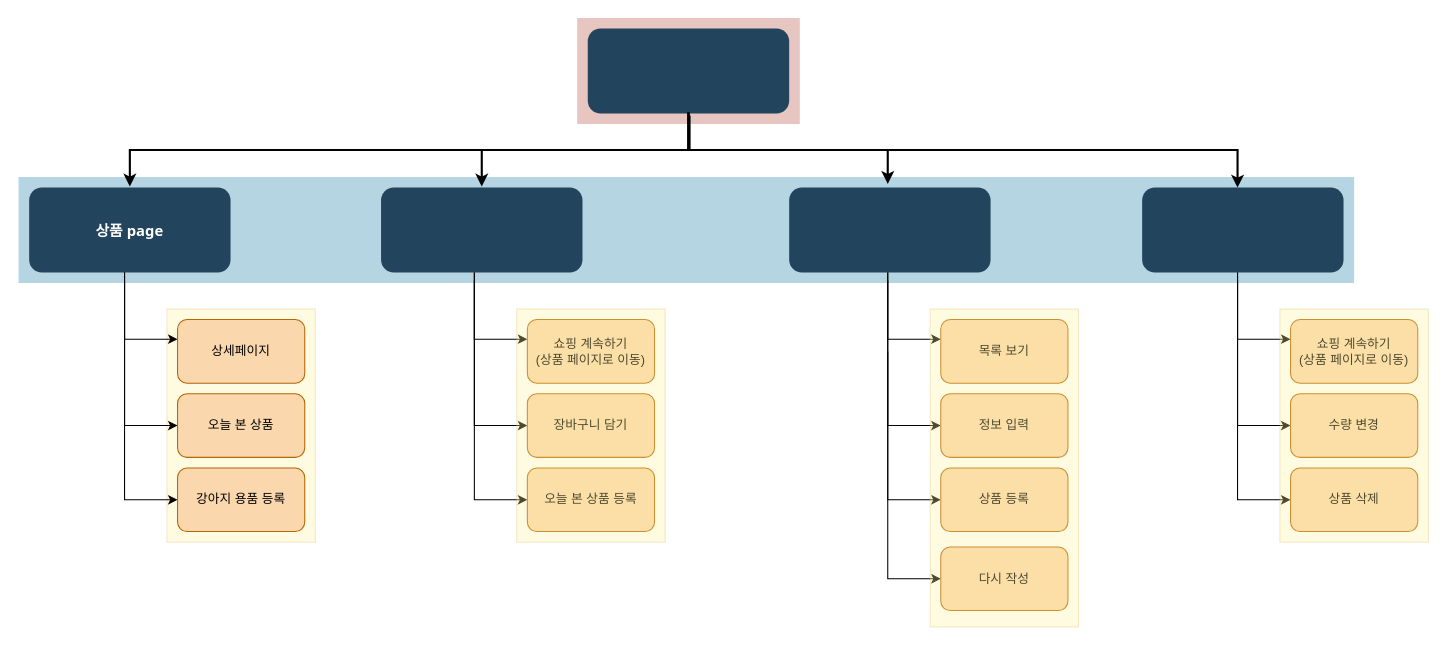
This 1447x646 diagram has some shape labels left out. The box of each missing label's shape, as (x1, y1, x2, y2) in pixels:
강아지 용품 판매 사이트: (587, 28, 789, 113)
상세 정보 page: (381, 187, 582, 272)
상품 등록 page: (789, 187, 990, 272)
장바구니 page: (1142, 187, 1343, 272)
